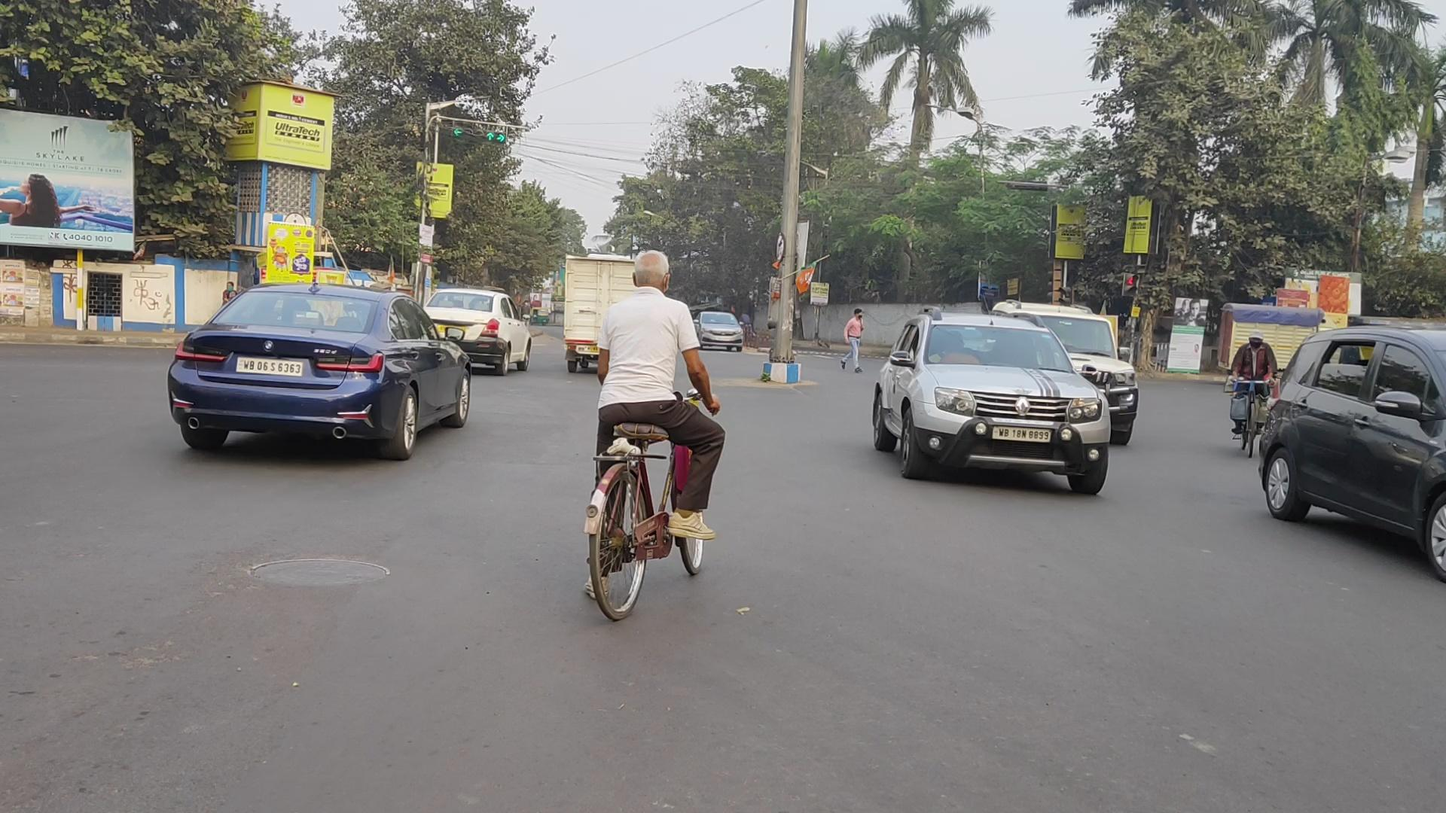bike: (584, 252, 722, 620), (1230, 331, 1277, 463)
car: (167, 278, 471, 464), (1257, 329, 1445, 580), (873, 309, 1109, 495), (992, 300, 1138, 446), (420, 285, 530, 375), (697, 309, 745, 355)
van: (562, 251, 676, 375), (1227, 306, 1368, 392)
